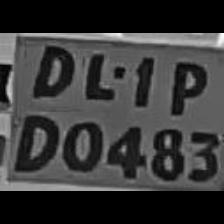0: (56, 112, 106, 174)
1: (125, 48, 160, 113)
3: (182, 124, 220, 184)
4: (104, 118, 146, 178)
8: (147, 122, 185, 182)
D: (21, 36, 77, 100), (8, 108, 60, 176)
L: (80, 41, 120, 104)
P: (159, 54, 211, 114)
